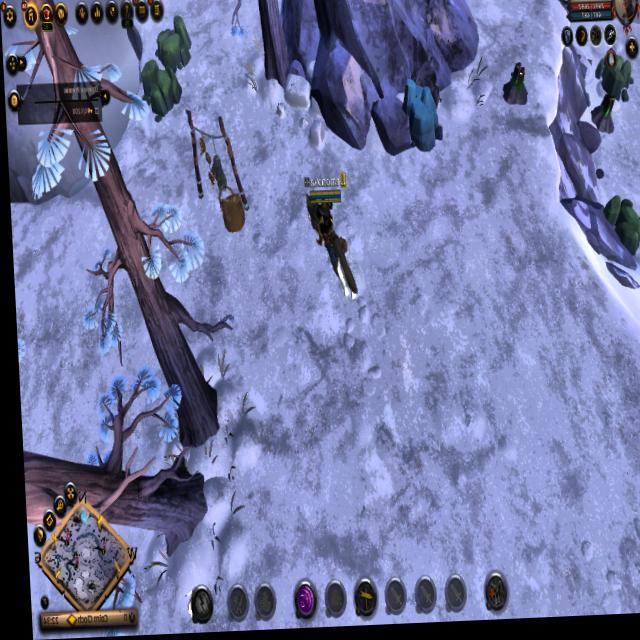ore tier 3: (499, 65, 528, 114), (588, 97, 616, 140)
rock tier 3: (139, 59, 181, 123), (599, 198, 640, 260), (155, 15, 193, 78)
rock tier 4: (399, 81, 443, 154)
